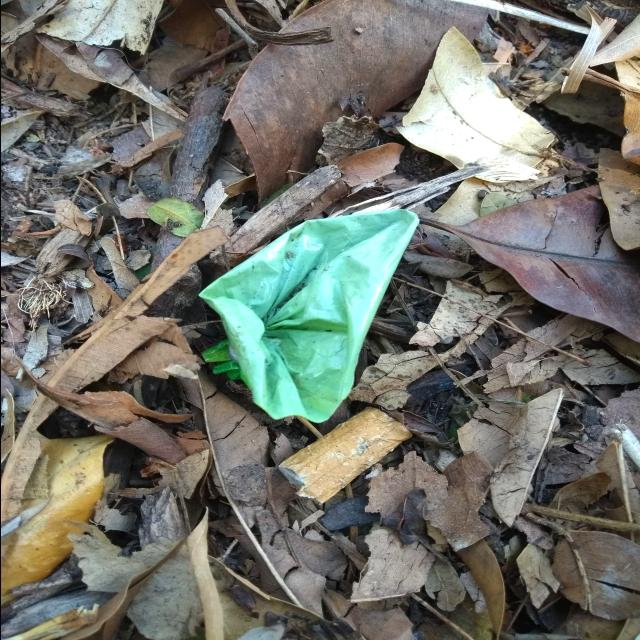Cigarette: (277, 407, 412, 504)
Plastic film: (198, 209, 418, 423)
